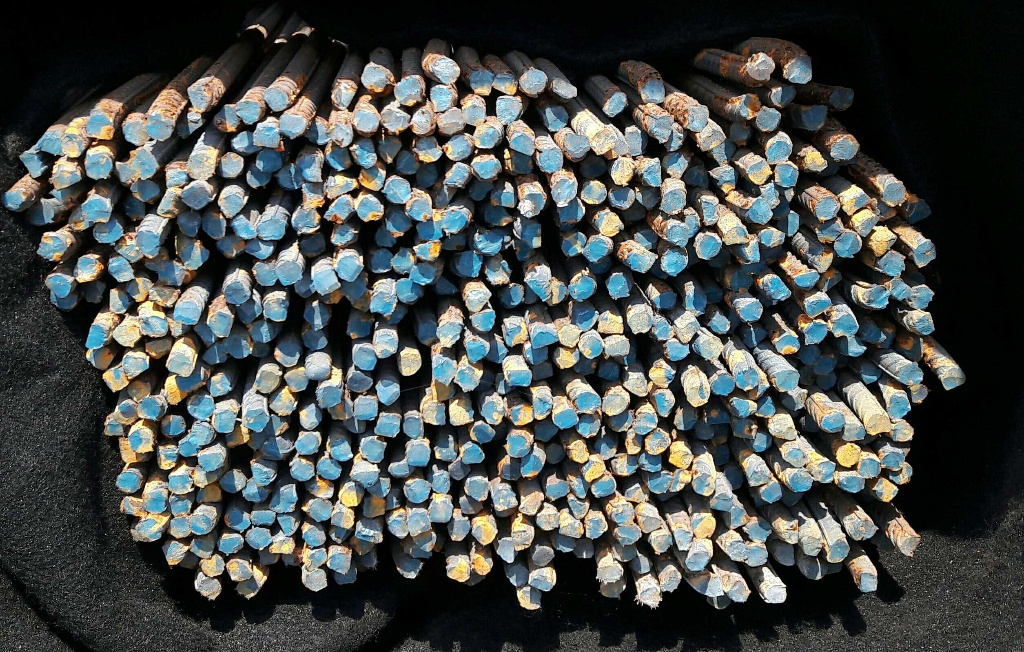dipstick: (760, 274, 791, 302), (381, 104, 410, 133), (324, 139, 352, 169), (200, 211, 228, 241), (293, 204, 321, 234), (785, 54, 812, 85), (526, 265, 552, 297), (829, 136, 860, 162), (431, 56, 459, 84), (897, 333, 925, 361), (85, 112, 112, 141), (187, 151, 214, 180), (748, 51, 773, 82), (37, 233, 65, 260), (393, 77, 421, 104), (519, 69, 546, 97), (135, 228, 161, 257), (608, 500, 637, 526), (832, 231, 861, 257), (297, 151, 322, 181), (351, 138, 376, 168), (48, 163, 82, 185), (222, 334, 253, 358), (733, 298, 764, 322), (165, 349, 192, 376), (745, 197, 772, 224), (113, 319, 139, 347), (272, 486, 298, 514), (463, 285, 491, 311), (504, 430, 532, 456), (661, 187, 687, 215), (710, 165, 736, 193), (120, 119, 149, 144), (325, 194, 350, 223), (640, 73, 665, 102), (628, 249, 657, 274), (769, 417, 798, 442), (487, 254, 511, 284), (144, 113, 170, 140), (84, 153, 111, 179), (279, 113, 306, 139), (181, 182, 208, 208), (415, 135, 442, 161), (774, 329, 800, 356), (82, 197, 110, 222), (362, 63, 387, 91), (223, 508, 251, 533), (444, 133, 472, 158), (557, 509, 582, 537), (132, 149, 156, 178), (162, 375, 186, 404), (483, 203, 512, 227), (629, 306, 653, 335), (650, 359, 674, 388), (681, 284, 704, 314), (353, 109, 379, 135), (252, 260, 278, 286), (517, 222, 543, 248), (20, 150, 45, 177), (218, 152, 243, 179), (214, 104, 239, 131), (429, 84, 454, 111), (591, 474, 618, 499), (812, 194, 839, 219), (387, 205, 411, 233), (395, 550, 419, 578), (754, 104, 778, 132), (798, 556, 826, 580), (649, 111, 672, 140), (563, 228, 586, 257), (429, 494, 452, 523), (93, 219, 123, 241), (324, 174, 357, 194), (530, 389, 552, 419), (37, 132, 63, 157), (359, 164, 384, 190), (358, 197, 383, 223), (237, 296, 262, 322), (159, 261, 185, 286), (248, 458, 273, 484), (468, 70, 493, 96), (386, 178, 411, 204), (602, 91, 627, 117), (940, 365, 965, 391), (229, 130, 256, 154), (300, 233, 327, 257), (338, 253, 362, 280), (117, 234, 141, 261), (496, 96, 520, 123), (572, 303, 596, 330), (637, 505, 661, 532), (663, 152, 687, 179), (643, 470, 670, 494), (331, 80, 354, 108), (311, 269, 339, 292), (463, 333, 486, 361), (661, 247, 684, 275), (178, 245, 207, 267), (256, 217, 285, 239), (436, 109, 465, 131), (583, 511, 605, 540), (642, 431, 671, 453), (189, 395, 214, 420), (543, 104, 568, 129), (476, 231, 501, 256), (623, 371, 648, 396), (27, 202, 53, 226), (163, 161, 187, 187), (74, 256, 100, 280), (913, 240, 937, 266), (329, 120, 352, 147), (273, 388, 296, 415), (353, 342, 376, 369), (374, 330, 397, 357), (696, 232, 719, 259), (698, 196, 718, 227), (597, 313, 625, 335), (613, 524, 641, 546), (372, 287, 393, 316), (256, 148, 281, 172), (276, 164, 301, 188), (231, 215, 256, 239), (277, 261, 301, 286), (122, 351, 146, 376), (142, 489, 167, 513), (256, 368, 281, 392), (347, 370, 372, 394), (376, 379, 400, 404), (444, 162, 468, 187), (581, 181, 606, 205), (453, 367, 478, 391), (508, 401, 533, 425), (637, 585, 661, 610), (686, 105, 710, 130), (661, 125, 685, 150), (685, 165, 709, 190), (710, 140, 734, 165), (832, 312, 857, 336), (377, 136, 400, 162), (264, 294, 287, 320), (273, 342, 299, 365), (108, 256, 134, 279), (167, 493, 193, 516), (263, 437, 289, 460), (309, 477, 335, 500), (351, 463, 377, 486), (475, 124, 498, 150), (448, 400, 474, 423), (649, 530, 672, 556), (731, 120, 754, 146), (745, 159, 771, 182), (801, 106, 824, 132), (843, 190, 869, 213), (626, 127, 648, 154), (612, 157, 634, 184), (584, 238, 611, 260), (398, 351, 420, 378), (881, 181, 908, 203), (654, 391, 676, 418), (217, 238, 245, 259), (471, 159, 500, 179), (556, 200, 585, 220), (595, 563, 624, 583), (816, 220, 845, 240), (237, 99, 261, 123), (207, 312, 231, 336), (175, 300, 199, 324), (353, 395, 377, 419), (375, 413, 399, 437), (360, 438, 384, 462), (510, 131, 534, 155), (537, 147, 561, 171), (415, 163, 439, 187), (456, 252, 480, 276), (606, 274, 630, 298), (571, 275, 595, 299), (899, 360, 923, 384), (330, 224, 355, 247), (368, 248, 391, 273), (305, 303, 328, 328), (161, 414, 186, 437), (564, 135, 587, 160), (401, 413, 424, 438), (405, 441, 428, 466), (554, 405, 577, 430), (516, 586, 541, 609), (878, 253, 903, 276), (908, 285, 933, 308), (803, 320, 826, 345), (858, 358, 881, 383), (634, 411, 657, 436), (827, 538, 850, 563), (254, 123, 280, 145), (263, 86, 285, 112), (157, 189, 179, 215), (298, 405, 324, 427), (329, 508, 355, 530), (357, 522, 383, 544), (552, 348, 578, 370), (728, 577, 750, 603), (849, 519, 875, 541), (781, 485, 807, 507), (131, 178, 158, 199), (177, 210, 198, 237), (247, 320, 274, 341), (413, 109, 434, 136), (641, 159, 662, 186), (438, 321, 459, 348), (449, 514, 470, 541), (599, 579, 626, 600), (860, 317, 881, 344), (610, 542, 638, 562), (305, 121, 328, 145), (301, 183, 324, 207), (161, 540, 185, 563), (284, 368, 308, 391), (316, 384, 340, 407), (295, 432, 319, 455), (237, 574, 261, 597), (634, 226, 658, 249), (599, 212, 622, 236), (471, 520, 495, 543), (700, 127, 724, 150), (831, 86, 854, 110), (888, 394, 911, 418), (732, 417, 756, 440), (801, 534, 824, 558), (187, 85, 209, 110), (194, 321, 216, 346), (128, 428, 153, 450), (195, 578, 220, 600), (226, 560, 251, 582), (441, 211, 466, 233), (405, 480, 430, 502), (386, 512, 408, 537), (612, 453, 637, 475), (765, 139, 790, 161), (802, 149, 827, 171), (872, 231, 897, 253), (741, 327, 766, 349), (806, 297, 831, 319), (667, 444, 692, 466), (892, 420, 914, 445), (141, 317, 167, 338), (145, 338, 171, 359), (85, 347, 111, 368), (220, 470, 246, 491), (345, 316, 371, 337), (463, 100, 484, 126), (504, 320, 525, 346), (505, 366, 531, 387), (482, 398, 503, 424), (533, 420, 559, 441), (664, 340, 690, 361), (62, 132, 82, 159), (149, 287, 176, 307), (555, 178, 575, 205), (521, 451, 541, 478), (403, 538, 430, 558), (773, 370, 800, 390), (838, 471, 865, 491), (177, 112, 200, 135), (246, 164, 269, 187), (218, 193, 241, 216), (303, 327, 326, 350), (245, 408, 268, 431), (317, 457, 340, 480), (666, 223, 689, 246), (856, 570, 879, 593), (224, 283, 248, 305), (190, 420, 212, 444), (363, 494, 385, 518), (330, 550, 352, 574), (509, 151, 533, 173), (409, 199, 433, 221), (637, 186, 661, 208), (464, 478, 488, 500), (407, 512, 431, 534), (445, 560, 469, 582), (596, 433, 618, 457), (631, 552, 653, 576), (907, 201, 931, 223), (864, 286, 888, 308), (837, 444, 861, 466), (692, 515, 714, 539), (898, 533, 920, 557), (122, 195, 143, 220), (44, 275, 69, 296), (50, 291, 75, 312), (116, 400, 137, 425), (686, 549, 711, 570), (702, 406, 731, 424), (412, 241, 438, 261), (579, 157, 605, 177), (609, 186, 635, 206), (795, 271, 821, 291), (570, 473, 589, 500), (729, 397, 756, 416), (68, 208, 90, 231), (79, 281, 102, 303), (127, 279, 150, 301), (137, 398, 160, 420), (212, 409, 235, 431), (116, 470, 139, 492), (291, 459, 314, 481), (329, 439, 352, 461), (341, 483, 363, 506), (472, 309, 495, 331), (604, 334, 626, 357), (423, 402, 445, 425), (576, 391, 599, 413), (577, 413, 600, 435), (676, 318, 698, 341), (911, 312, 934, 334), (673, 407, 695, 430), (726, 539, 748, 562), (375, 224, 396, 248), (227, 422, 248, 446), (552, 77, 576, 98), (416, 222, 444, 240), (514, 238, 535, 262), (435, 276, 459, 297), (430, 379, 454, 400), (811, 461, 835, 482), (857, 458, 881, 479), (108, 288, 128, 313), (491, 187, 516, 207), (603, 393, 628, 413), (521, 494, 541, 519), (740, 94, 760, 119), (769, 86, 794, 106), (638, 452, 663, 472), (729, 505, 749, 530), (775, 542, 795, 567), (839, 422, 864, 442), (247, 239, 273, 258), (723, 226, 749, 245), (413, 263, 435, 285), (500, 285, 522, 307), (814, 369, 836, 391), (138, 519, 161, 540), (494, 72, 517, 93), (594, 129, 615, 152), (581, 334, 602, 357), (433, 360, 456, 381), (626, 482, 649, 503), (873, 199, 896, 220), (687, 383, 708, 406), (874, 480, 897, 501), (746, 544, 767, 567), (748, 520, 771, 541), (868, 412, 889, 435), (144, 251, 168, 271), (103, 369, 127, 389), (189, 539, 213, 559), (329, 398, 353, 418), (310, 499, 330, 523), (460, 443, 484, 463), (501, 457, 521, 481), (493, 490, 517, 510), (740, 236, 760, 260), (817, 271, 841, 291), (889, 277, 909, 301), (388, 461, 416, 478), (682, 209, 699, 237), (87, 324, 106, 349), (351, 535, 376, 554), (513, 526, 532, 551), (672, 469, 691, 494), (120, 497, 146, 515), (198, 557, 224, 575), (245, 529, 271, 547), (621, 204, 647, 222), (113, 163, 135, 184), (128, 378, 149, 400), (206, 374, 228, 395), (304, 525, 326, 546), (524, 192, 545, 214), (708, 311, 729, 333), (712, 374, 734, 395), (156, 444, 176, 467), (189, 514, 212, 534), (396, 278, 416, 301), (417, 320, 437, 343), (533, 568, 553, 591), (856, 214, 879, 234), (908, 381, 928, 404), (822, 413, 845, 433), (745, 433, 768, 453), (693, 473, 713, 496), (710, 493, 733, 513), (765, 584, 788, 604), (393, 249, 412, 273), (276, 515, 300, 534), (468, 180, 492, 199), (533, 329, 557, 348), (760, 229, 784, 248), (707, 249, 731, 268), (609, 411, 633, 430), (1, 192, 26, 210), (302, 571, 327, 589), (661, 567, 679, 592), (168, 475, 194, 492), (166, 519, 192, 536), (761, 181, 778, 207), (782, 519, 799, 545), (119, 437, 140, 458), (598, 360, 619, 381), (473, 421, 494, 442), (585, 457, 606, 478), (780, 214, 801, 235), (791, 471, 812, 492), (398, 152, 418, 174), (654, 290, 676, 310), (544, 443, 566, 463), (508, 564, 528, 586), (532, 546, 554, 566), (813, 248, 833, 270), (785, 390, 807, 410), (890, 463, 912, 483), (244, 486, 267, 505), (652, 320, 675, 339), (525, 344, 548, 363), (536, 511, 559, 530), (568, 494, 587, 517), (740, 260, 769, 275), (218, 536, 242, 554), (549, 281, 567, 305), (489, 338, 505, 365), (848, 333, 866, 357), (625, 430, 643, 454), (753, 376, 771, 400), (725, 465, 743, 489), (706, 591, 730, 609), (761, 245, 782, 265), (497, 539, 516, 561), (546, 480, 568, 499), (575, 538, 594, 560), (737, 369, 756, 391), (760, 481, 779, 503), (433, 181, 449, 207), (295, 274, 313, 297), (551, 533, 574, 551), (699, 338, 722, 356), (749, 468, 772, 486), (673, 528, 691, 551), (271, 537, 295, 554), (196, 487, 223, 502), (104, 416, 124, 436), (449, 461, 469, 481), (471, 555, 491, 575), (797, 344, 817, 364), (268, 414, 287, 435), (609, 137, 628, 158), (575, 356, 596, 375), (570, 441, 589, 462), (730, 270, 751, 289), (883, 452, 904, 471), (712, 444, 731, 465), (703, 575, 722, 596), (202, 346, 224, 364), (178, 371, 200, 389), (531, 362, 553, 380), (460, 496, 482, 514), (786, 449, 808, 467), (802, 412, 820, 434), (443, 233, 466, 250), (589, 256, 612, 273), (758, 397, 775, 420), (317, 289, 343, 304), (197, 453, 223, 468), (252, 509, 276, 525), (773, 196, 789, 220), (815, 354, 834, 374), (250, 341, 271, 359), (179, 437, 200, 455), (309, 362, 330, 380), (413, 531, 434, 549), (367, 480, 389, 497), (494, 228, 511, 250), (433, 471, 450, 493), (345, 417, 368, 433), (248, 430, 267, 449), (436, 442, 455, 461), (907, 267, 926, 286), (705, 286, 724, 305), (343, 279, 363, 297), (166, 316, 184, 336), (560, 326, 578, 346), (621, 344, 638, 365), (307, 550, 326, 568), (695, 420, 713, 439), (259, 547, 279, 564), (329, 526, 350, 542), (881, 324, 894, 349), (493, 373, 511, 391), (712, 425, 729, 444), (386, 489, 401, 510), (389, 306, 405, 325), (798, 367, 814, 386), (359, 552, 379, 567), (476, 372, 491, 392), (357, 290, 370, 313), (334, 571, 358, 583), (283, 551, 302, 566), (824, 559, 844, 573), (48, 187, 66, 202), (193, 469, 208, 487), (523, 288, 537, 303)
